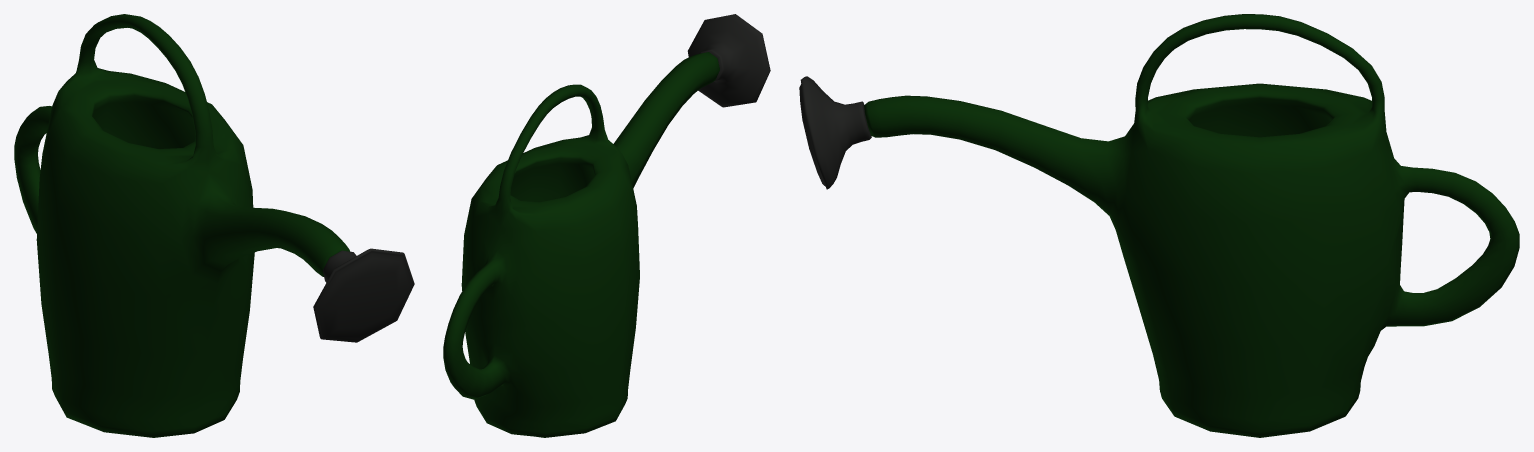
Rendered from WateringCan-1 1.fbx.
3 views of the same model, side by side, from view 1: azimuth 30°, elevation 25°; view 2: azimuth 150°, elevation 25°; view 3: azimuth 270°, elevation 25° (orthographic). The views are drawn at different scales.
Parts seen in each view (by area): view 1: WateringCanBody; view 2: WateringCanBody; view 3: WateringCanBody.
Part boxes in pixels (x1=…): WateringCanBody: x1=14, y1=14, x2=414, y2=437; WateringCanBody: x1=443, y1=14, x2=770, y2=437; WateringCanBody: x1=799, y1=14, x2=1519, y2=437.
Bounding box in the file's own units: 413 × 204 × 689.
